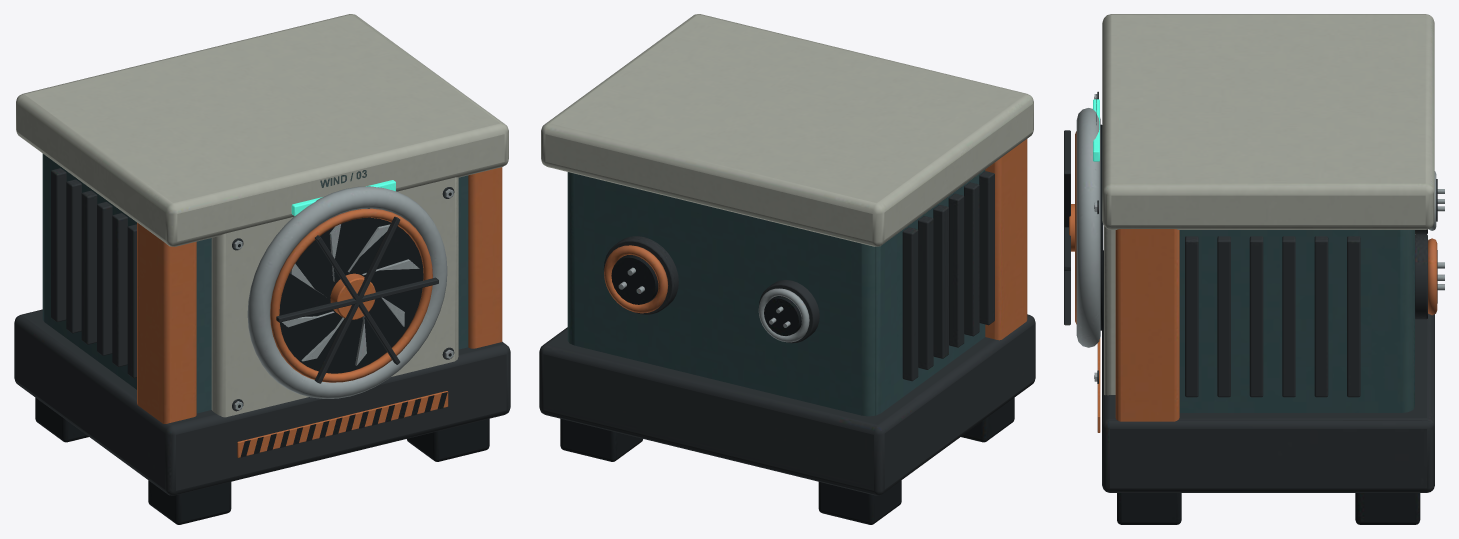
The model's file is WindModule.glb.
3 views of the same model, side by side, from view 1: azimuth 30°, elevation 25°; view 2: azimuth 150°, elevation 25°; view 3: azimuth 270°, elevation 25° (orthographic). The views are drawn at different scales.
Visible parts, largest first — view 1: WindModule_Geometry; view 2: WindModule_Geometry; view 3: WindModule_Geometry.
Boxes of the visible parts, x1,y1,x2,y2 form: WindModule_Geometry: (14,14,510,524); WindModule_Geometry: (539,14,1035,524); WindModule_Geometry: (1064,14,1444,524).
Bounding box in the file's own units: 0.493 × 0.4485 × 0.447.
1 material, 1 textured.
